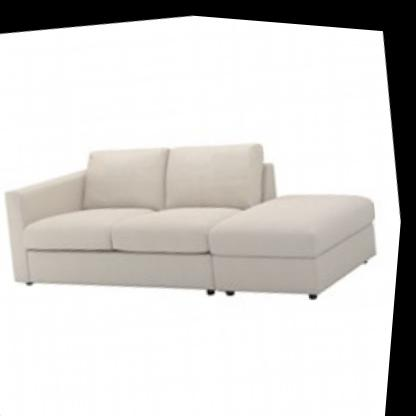Sofa: (0, 64, 408, 361)
